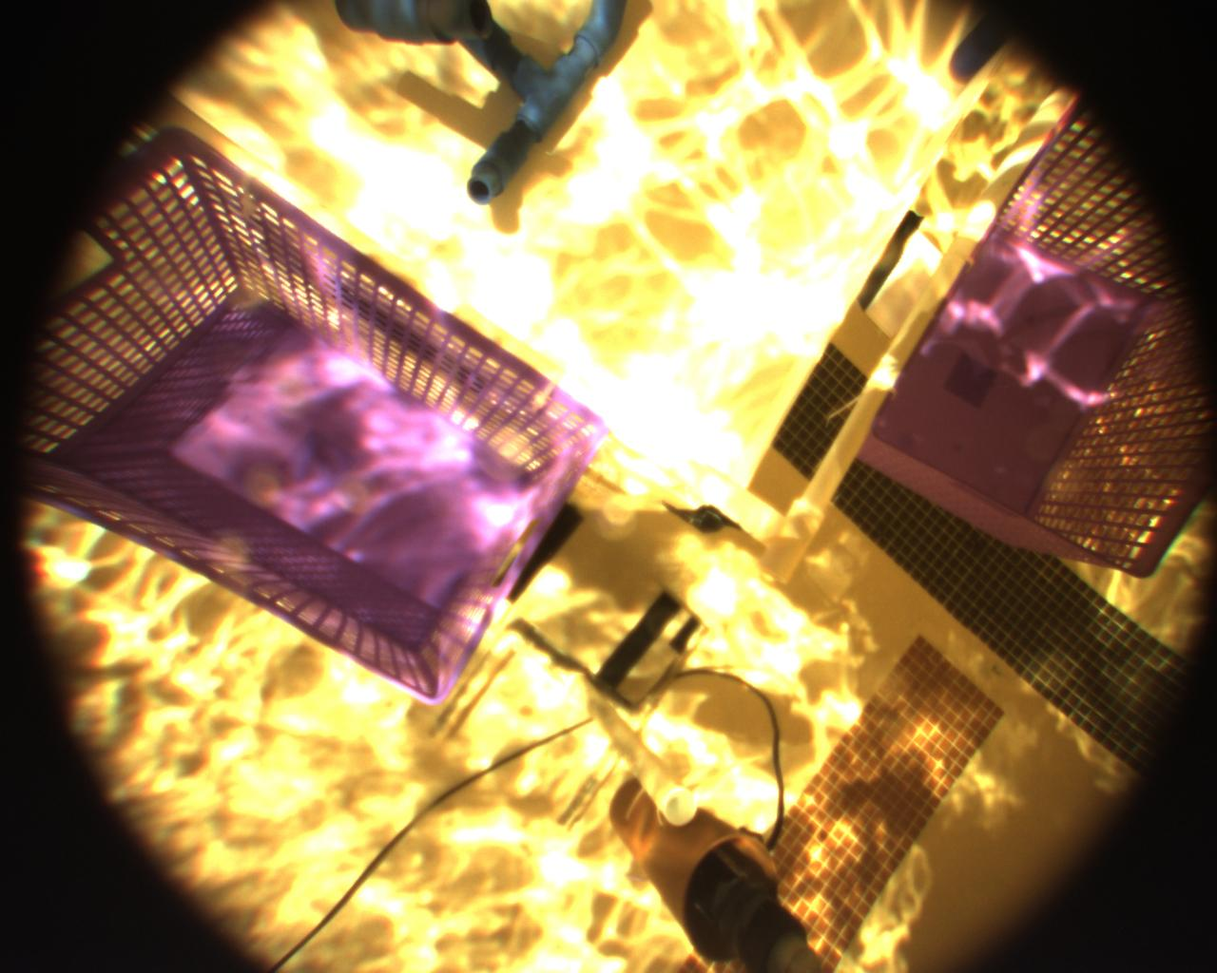coral: (311, 0, 662, 228), (929, 19, 995, 90)
coral-box-top: (151, 0, 1053, 570)
